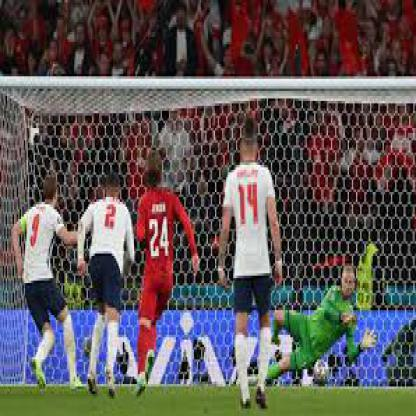goal: (264, 267, 398, 392)
